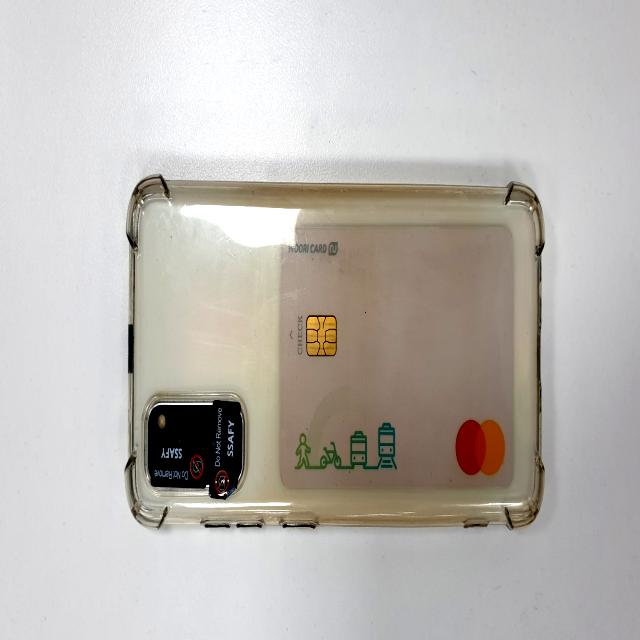phone: (128, 176, 547, 530)
sticker: (151, 439, 206, 487), (213, 399, 237, 497)
